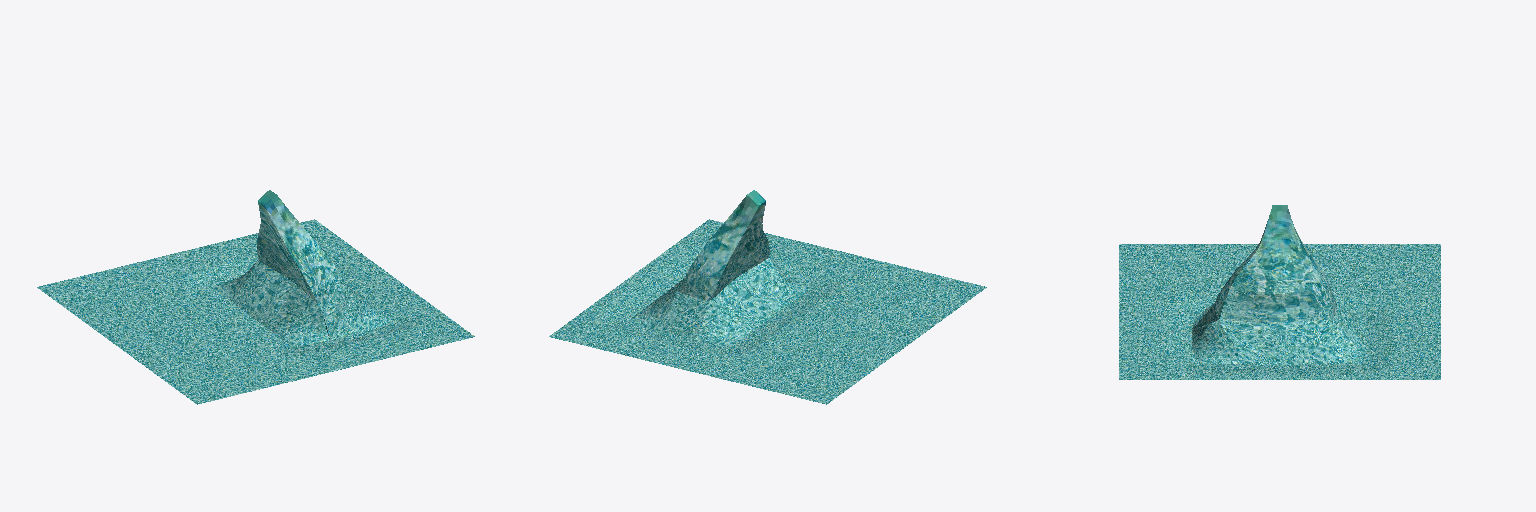
3 renders of one model, left to right at view 1: azimuth 30°, elevation 25°; view 2: azimuth 150°, elevation 25°; view 3: azimuth 270°, elevation 25°, orthographic.
Visible parts, largest first — view 1: Plane; view 2: Plane; view 3: Plane.
Boxes of the visible parts, x1,y1,x2,y2 form: Plane: [37, 190, 474, 404]; Plane: [549, 190, 986, 404]; Plane: [1119, 205, 1440, 379].
Size of the model in its own units: 8.84 by 3.62 by 8.84.
Materials: 1 (1 with a texture image).